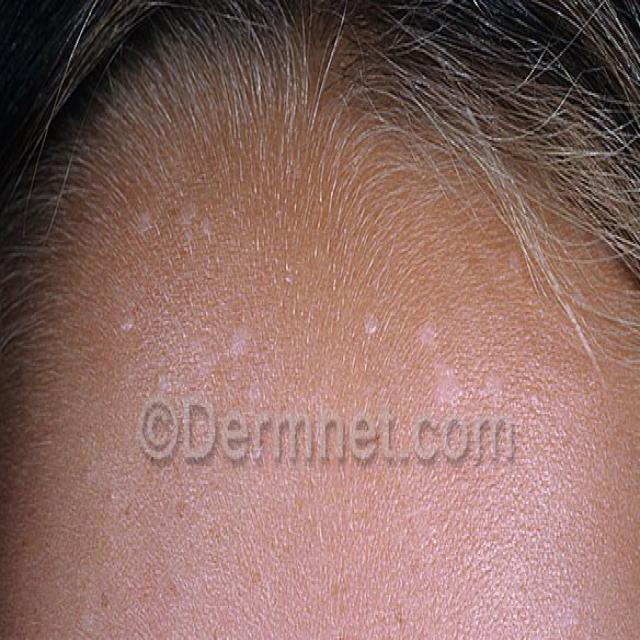Warts: (118, 182, 270, 478), (360, 293, 561, 446)
